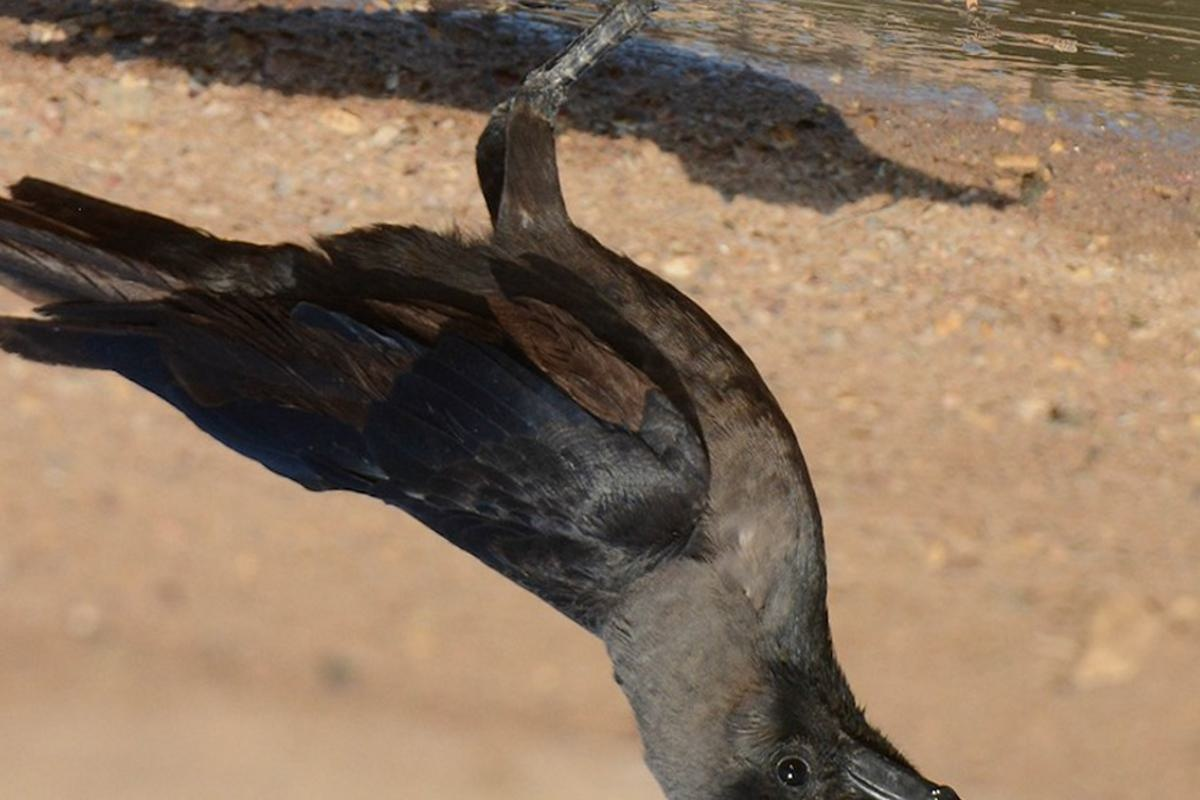crow: (1, 74, 969, 798)
